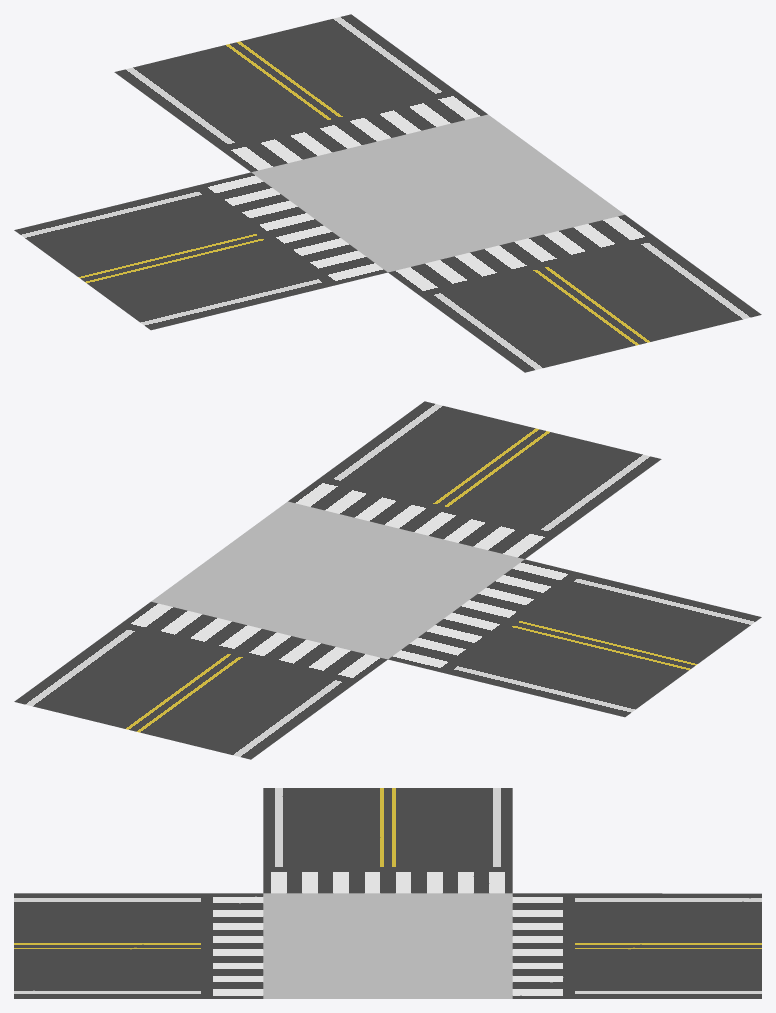
Rendered from Road_T_Section.fbx.
3 views of the same model, one above another, from view 1: azimuth 30°, elevation 25°; view 2: azimuth 150°, elevation 25°; view 3: azimuth 270°, elevation 25° (orthographic). The views are drawn at different scales.
Visible parts, largest first — view 1: Road_T_Section; view 2: Road_T_Section; view 3: Road_T_Section.
Part boxes in pixels (x1=…): Road_T_Section: x1=14, y1=14, x2=761, y2=372; Road_T_Section: x1=14, y1=401, x2=761, y2=759; Road_T_Section: x1=14, y1=788, x2=761, y2=998.
Size of the model in its own units: 800 by 0 by 1200.
